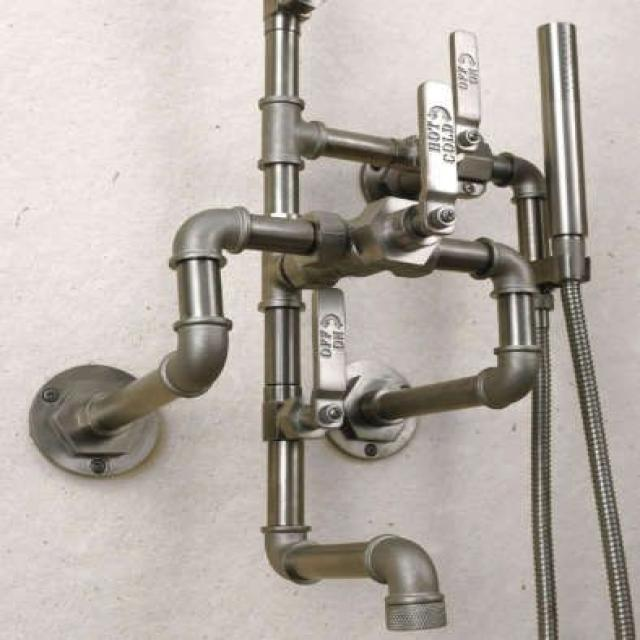Lever Handle Valve Threaded: (314, 76, 459, 276), (408, 29, 494, 203), (262, 287, 349, 444)
